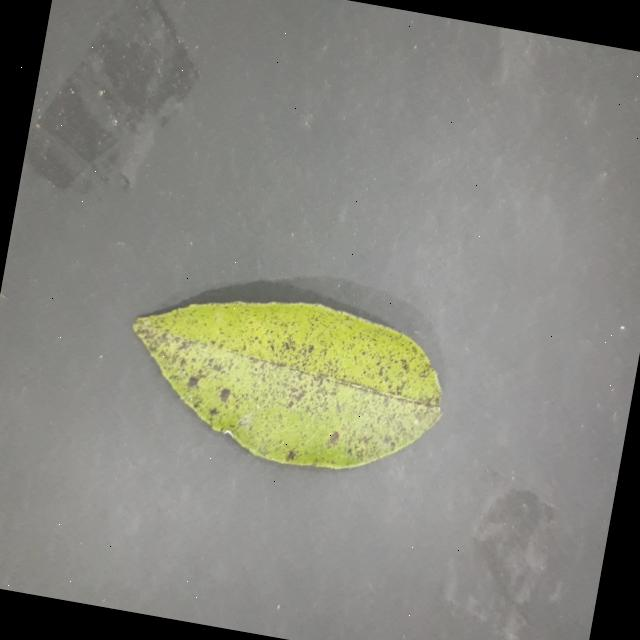greasy_spot: (132, 301, 441, 469)
